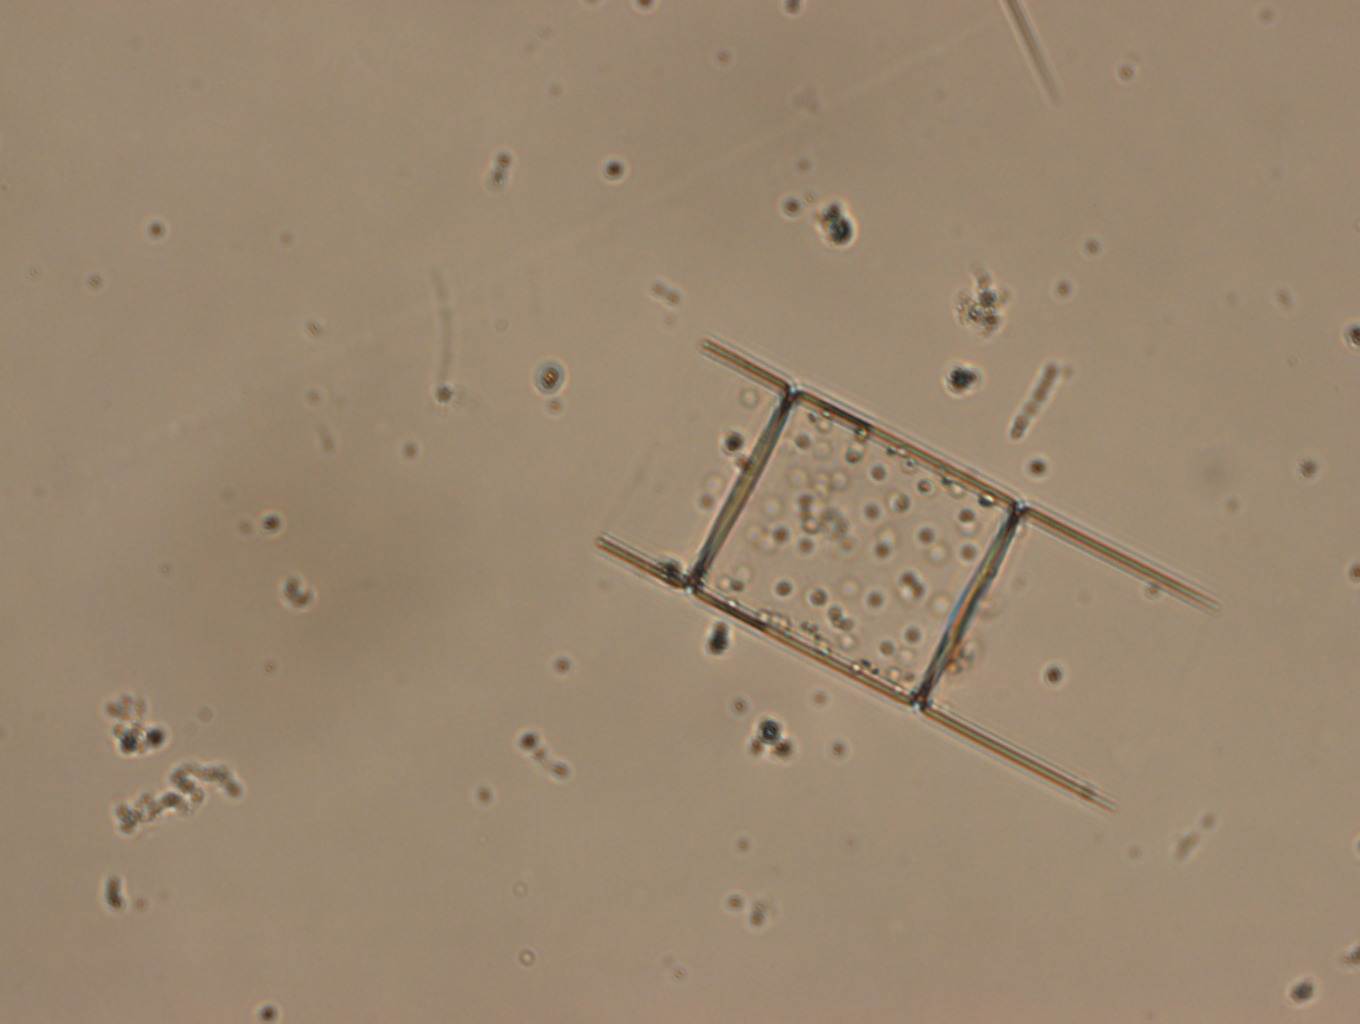guinardia flaccida: (595, 311, 1228, 824)
